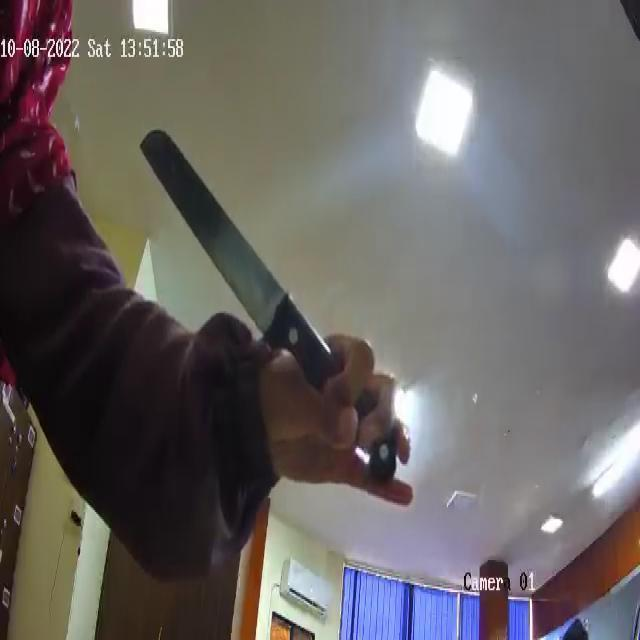Knife: (137, 130, 405, 482)
